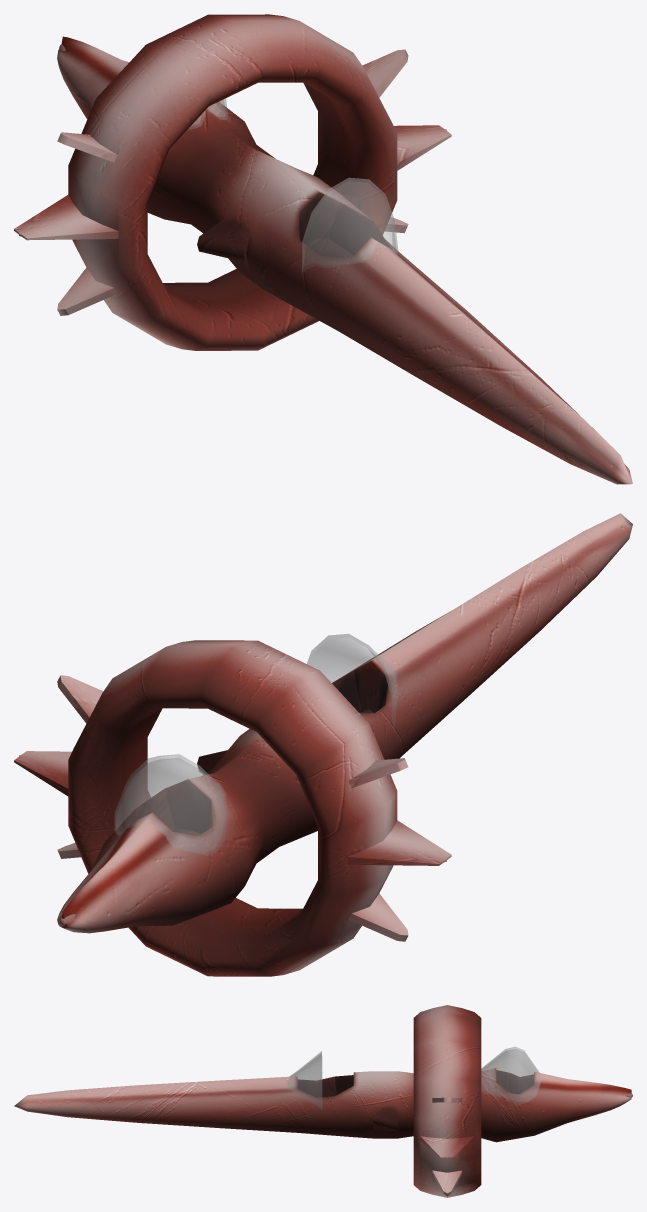
The model's file is Race car 1.2.fbx.
3 renders of one model, top to bottom at view 1: azimuth 30°, elevation 25°; view 2: azimuth 150°, elevation 25°; view 3: azimuth 270°, elevation 25°, orthographic. The views are drawn at different scales.
Parts seen in each view (by area): view 1: pSphere3; view 2: pSphere3; view 3: pSphere3.
Part boxes in pixels (box(x1,y1,x2,y2)): pSphere3: box(14, 14, 632, 484); pSphere3: box(14, 513, 632, 976); pSphere3: box(14, 1005, 632, 1197).
Bounding box in the file's own units: 7.77 × 5.6 × 17.97.
Materials: 2 (1 with a texture image).
